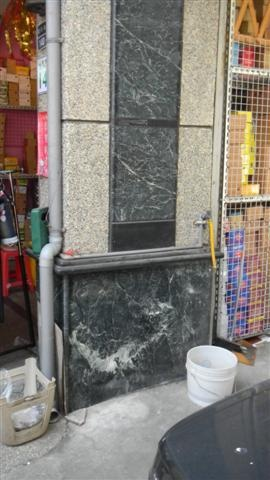bucket: (186, 342, 237, 408)
